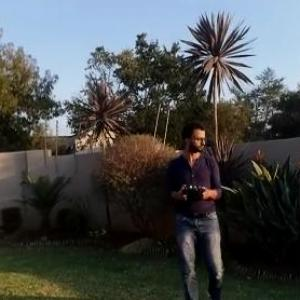follow: (167, 113, 232, 299)
